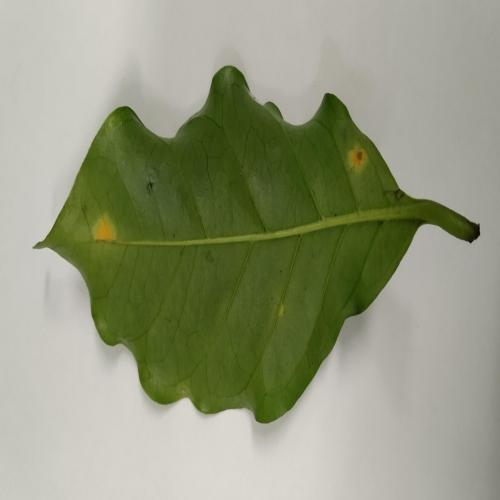phoma: (348, 143, 369, 175)
